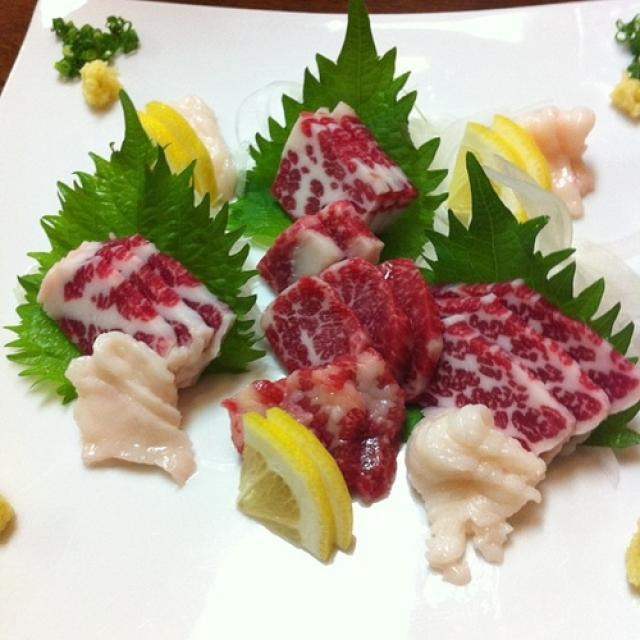刺身生食: (23, 29, 627, 592)
